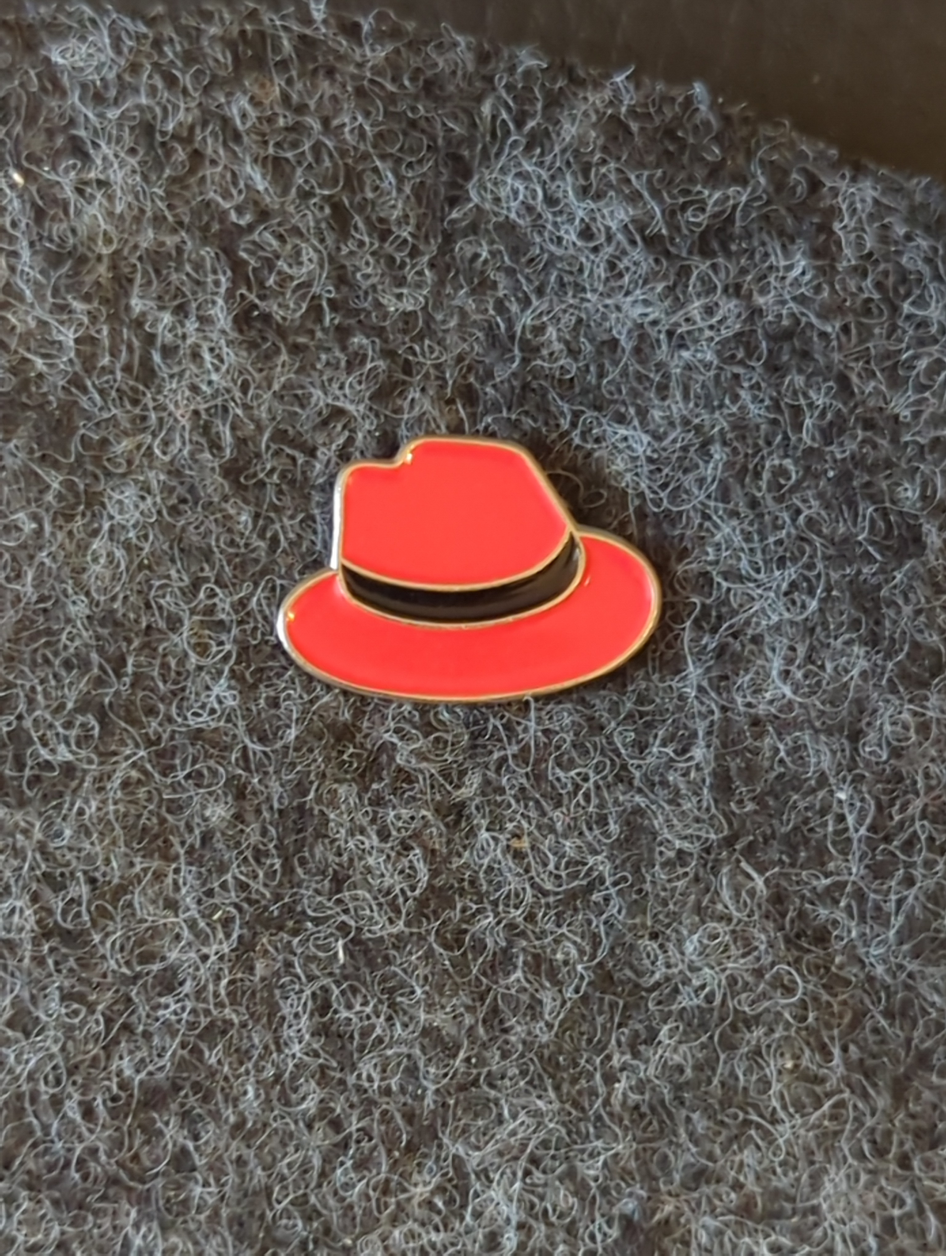Red-Hat: (200, 354, 760, 850)
